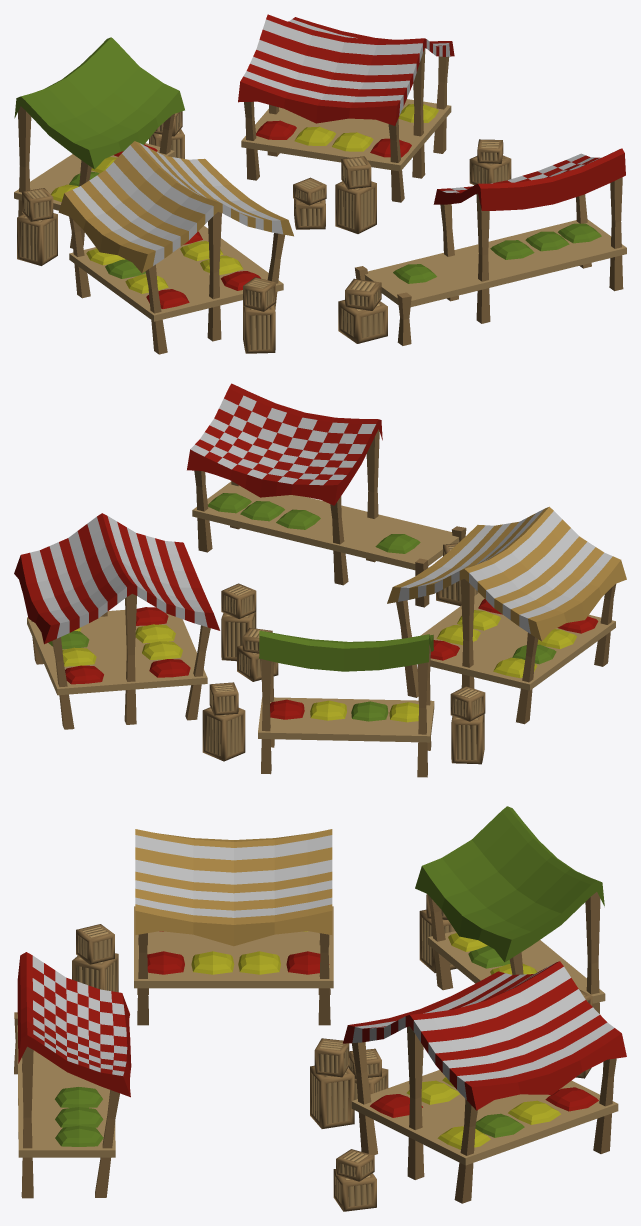
Rendered from q-market-stalls-puzz5f91oe.glb.
The picture shows the model from 3 angles, top to bottom: view 1: azimuth 30°, elevation 25°; view 2: azimuth 150°, elevation 25°; view 3: azimuth 270°, elevation 25°; orthographic projection. The views are drawn at different scales.
Visible parts, largest first — view 1: Market_FirstAge_Level2; view 2: Market_FirstAge_Level2; view 3: Market_FirstAge_Level2.
Boxes of the visible parts, x1=… form: Market_FirstAge_Level2: x1=14, y1=14, x2=626, y2=354; Market_FirstAge_Level2: x1=14, y1=383, x2=626, y2=777; Market_FirstAge_Level2: x1=14, y1=806, x2=626, y2=1211.
Bounding box in the file's own units: 1.9 × 0.5527 × 1.87.
